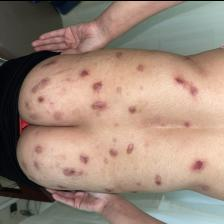DA: (29, 54, 145, 190)
